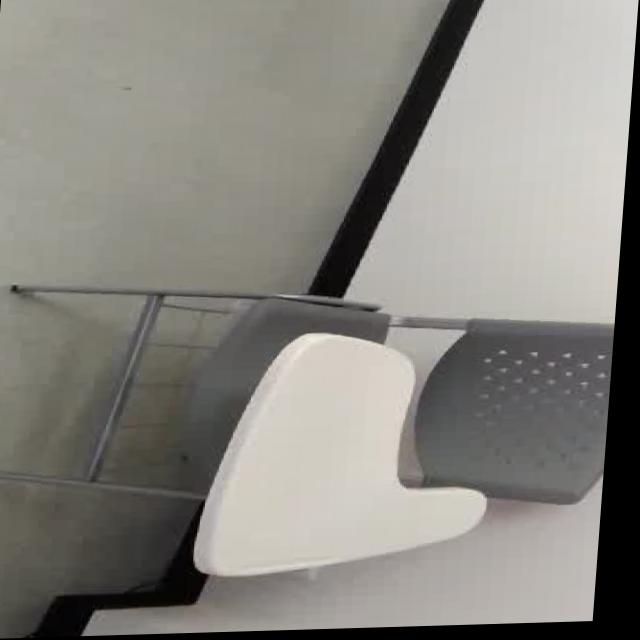chair: (0, 220, 626, 618)
